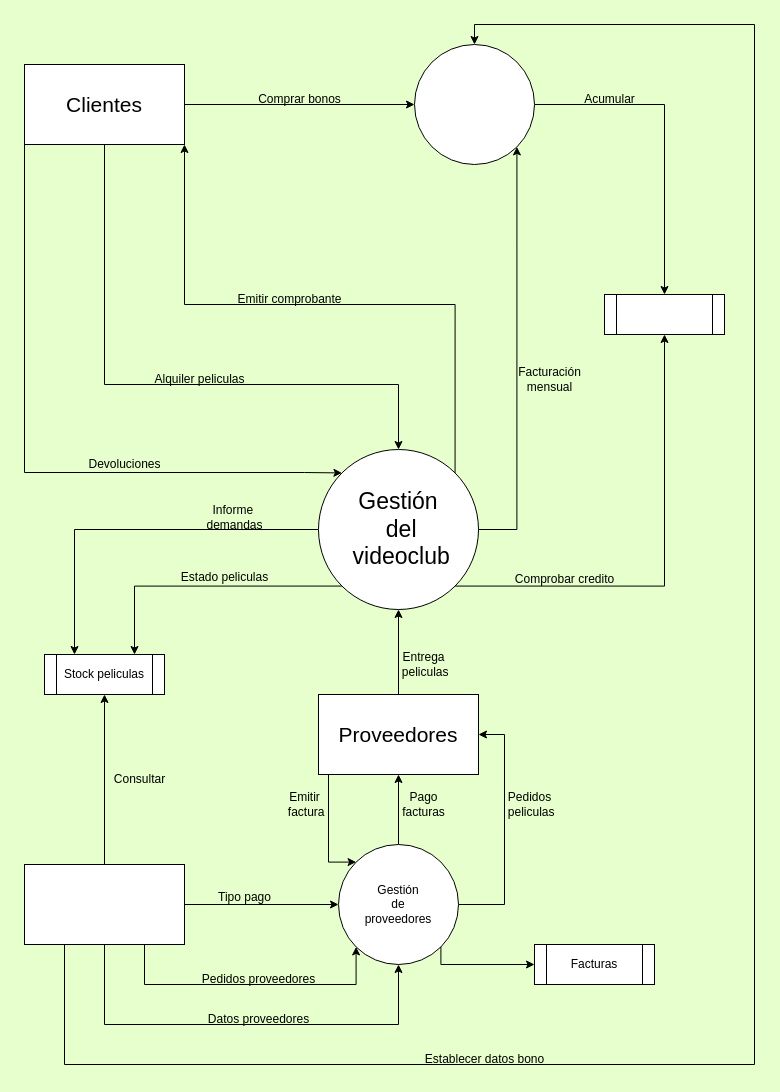
Image size: 780x1092. Some labels were removed from this diagram. The box of each missing label's shape, as (x1, y1, x2, y2) in pixels:
Compra de bonos: (414, 44, 534, 164)
Creditos cliente: (604, 294, 724, 334)
Dirección Videoclub: (24, 864, 184, 944)
